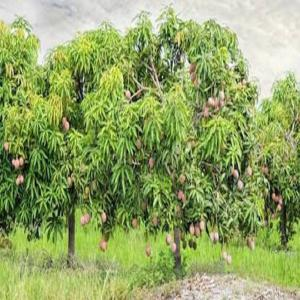Tree: (130, 9, 250, 273), (35, 20, 126, 262), (255, 65, 298, 252)
